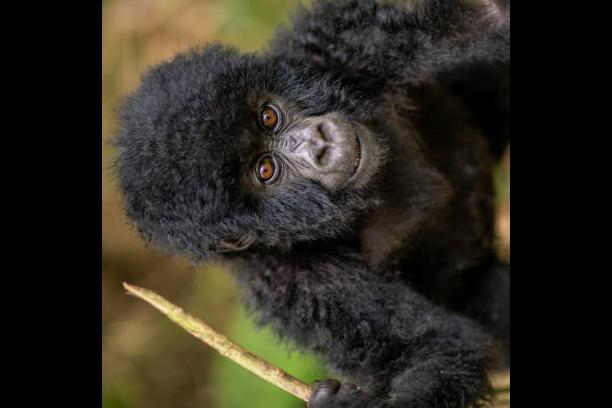goriile_montagne: (122, 0, 510, 408)
